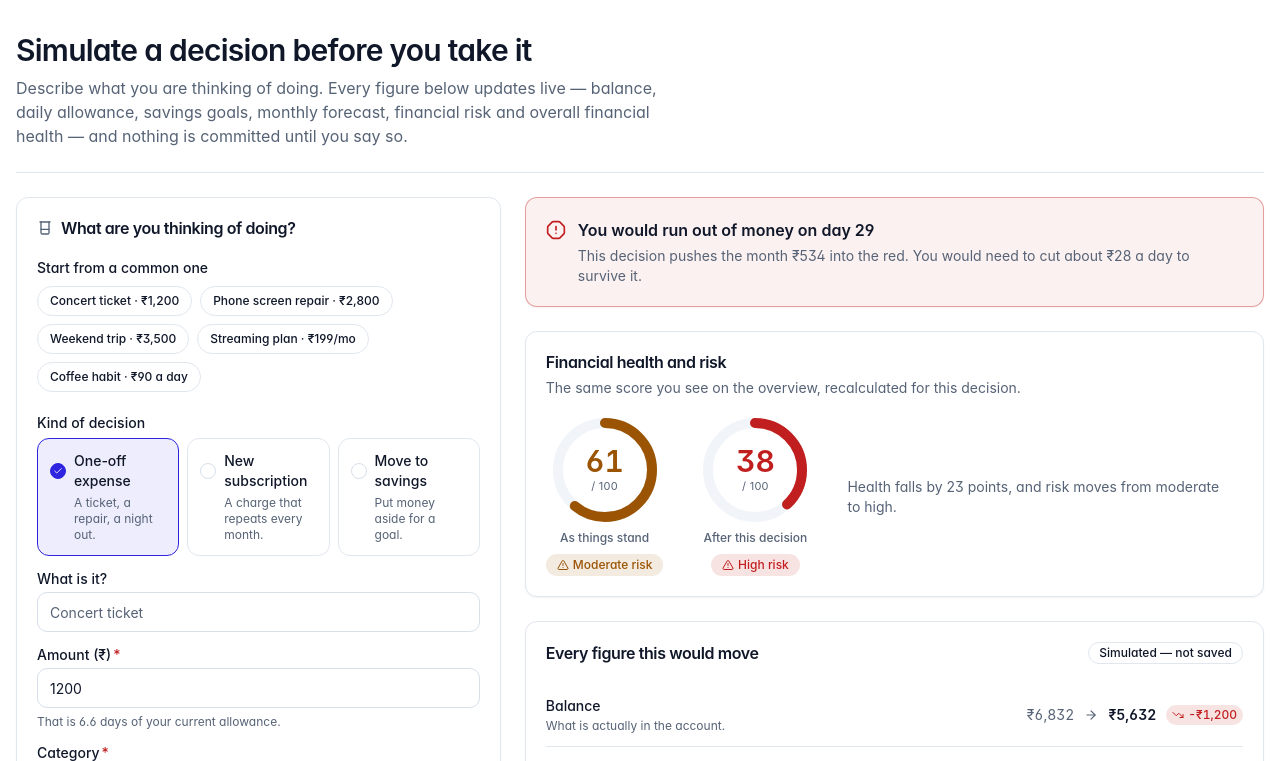
Test: <Simulate /> › switching to "move to savings" swaps the form to a goal picker without crashing
Step 1. Click the radio button labelled "Move to savings Put money aside for a goal." → x=409, y=497, box [338,438,480,556]
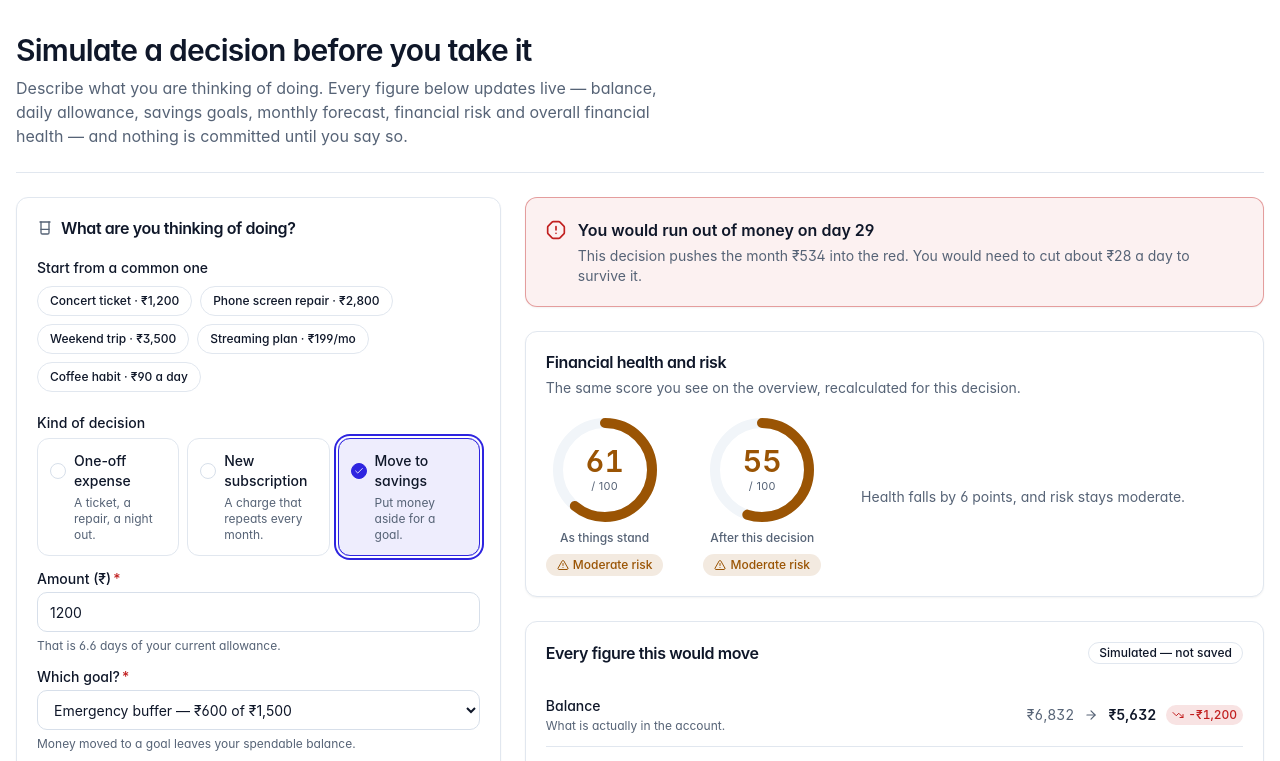
Expected: the dropdown labelled "Which goal?*" is shown, [37,690,480,730]
